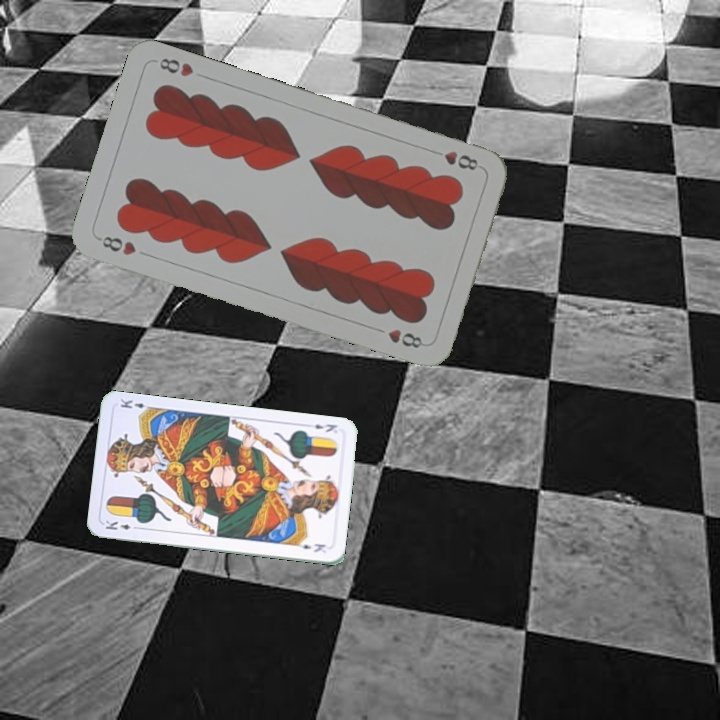EK: (102, 516, 142, 532), (310, 420, 339, 435)
H8: (427, 146, 481, 173), (94, 232, 139, 258)
